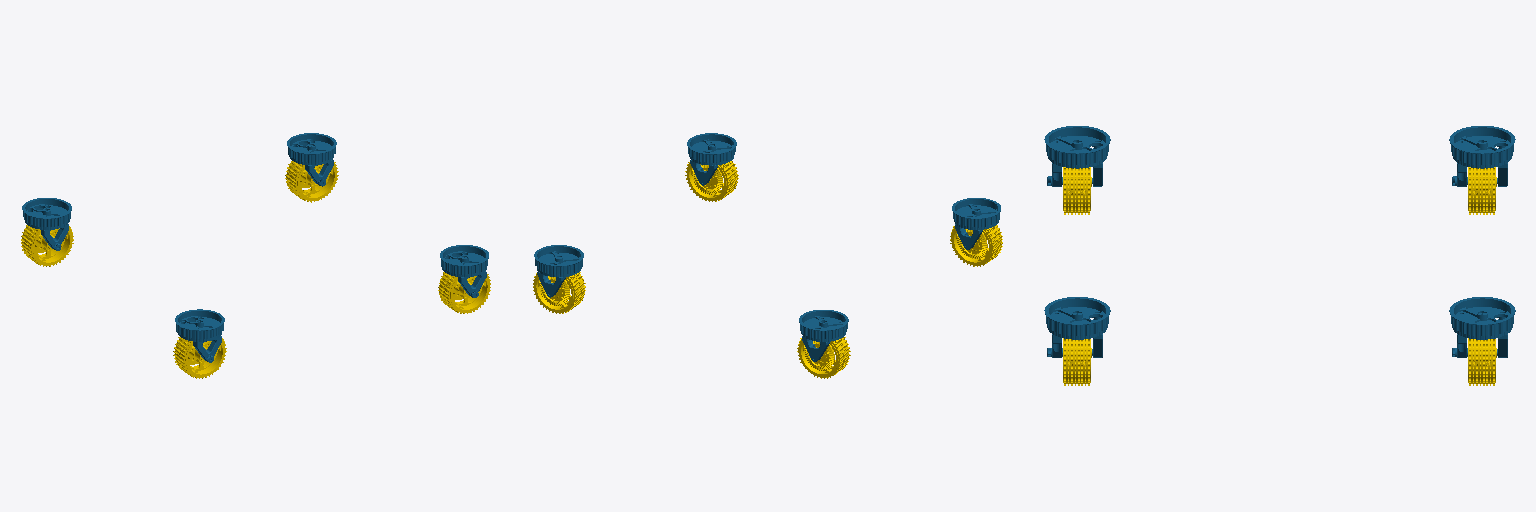
robot.urdf — edna:
<?xml version="1.0" ?>
<!-- =================================================================================== -->
<!-- |    This document was autogenerated by xacro from /workspaces/edna2023/src/edna_description/urdf/robots/edna.urdf.xacro | -->
<!-- |    EDITING THIS FILE BY HAND IS NOT RECOMMENDED                                 | -->
<!-- =================================================================================== -->
<robot name="edna">
  <!-- Specify some standard inertial calculations https://en.wikipedia.org/wiki/List_of_moments_of_inertia -->
  <!-- These make use of xacro's mathematical functionality -->
  <material name="black">
    <color rgba="0.0 0.0 0.0 1.0"/>
  </material>
  <material name="blue">
    <color rgba="0.13725490196078433 0.43137254901960786 0.5882352941176471 1.0"/>
  </material>
  <material name="green">
    <color rgba="0.0 0.8 0.0 1.0"/>
  </material>
  <material name="grey">
    <color rgba="0.2 0.2 0.2 1.0"/>
  </material>
  <material name="yellow">
    <color rgba="1.0 0.8431372549019608 0.0 1"/>
  </material>
  <material name="orange">
    <color rgba="0.9529411764705882 0.5294117647058824 0.1843137254901961 1"/>
  </material>
  <material name="brown">
    <color rgba="0.8705882352941177 0.8117647058823529 0.7647058823529411 1.0"/>
  </material>
  <material name="red">
    <color rgba="0.8 0.0 0.0 1.0"/>
  </material>
  <material name="white">
    <color rgba="1.0 1.0 1.0 1.0"/>
  </material>
  <material name="silver">
    <color rgba="0.700 0.700 0.700 1.000"/>
  </material>
  <material name="zed2i_mat">
    <color rgba="0.25 0.25 0.25 0.99"/>
  </material>
  <!-- Made up values, replace with real ones later. -->
  <!-- X IS FORWARD -->
  <!-- Y IS LEFT -->
  <!-- Z IS UP -->
  <!-- Chassis -->
  <link name="base_link"/>
  <link name="default_swerve_chassis_link">
    <inertial>
      <origin rpy="0 0 0" xyz="0 0 0.02794"/>
      <mass value="19.0508795"/>
      <inertia ixx="0.8663421337789339" ixy="0.0" ixz="0.0" iyy="0.8663421337789339" iyz="0.0" izz="1.7227696361205036"/>
    </inertial>
    <visual>
      <origin rpy="1.5707963267948966 0 0" xyz="0.061605 0.53866 -0.34976"/>
      <geometry>
        <mesh filename="package://edna_description/meshes/SwerveChassis.stl" scale="0.001 0.001 0.001"/>
      </geometry>
      <material name="red"/>
    </visual>
    <collision>
      <origin rpy="0 0 0" xyz="0 0 0.02794"/>
      <geometry>
        <box size="0.7366 0.7366 0.05588 "/>
      </geometry>
    </collision>
  </link>
  <joint name="default_swerve_chassis_joint" type="fixed">
    <parent link="base_link"/>
    <child link="default_swerve_chassis_link"/>
    <origin rpy="0 0 0" xyz="0 0 0"/>
  </joint>
  <link name="default_front_left_axle_link">
    <visual>
      <origin rpy="3.141592653589793 0 1.5707963267948966" xyz="0 0 0"/>
      <geometry>
        <mesh filename="package://edna_description/meshes/SwerveAxle.stl" scale="0.001 0.001 0.001"/>
      </geometry>
      <material name="blue"/>
    </visual>
    <inertial>
      <origin rpy="0 0 0" xyz="0 0 -0.015"/>
      <mass value="0.23739"/>
      <inertia ixx="0.000166173" ixy="0.0" ixz="0.0" iyy="0.000166173" iyz="0.0" izz="0.00029673750000000005"/>
    </inertial>
  </link>
  <joint name="default_front_left_axle_joint" type="continuous">
    <parent link="default_swerve_chassis_link"/>
    <child link="default_front_left_axle_link"/>
    <origin rpy="0 0 0" xyz="0.301625 0.301625 0.06905599999999999"/>
    <axis xyz="0 0 -1"/>
    <dynamics friction="0.1"/>
  </joint>
  <link name="default_front_left_wheel_link">
    <visual>
      <origin rpy="0 0.7853981633974483 1.5707963267948966" xyz="0 -0.022 0"/>
      <geometry>
        <mesh filename="package://edna_description/meshes/SwerveWheel.stl" scale="0.001 0.001 0.001"/>
      </geometry>
      <material name="yellow"/>
    </visual>
    <collision>
      <origin rpy="1.5707963267948966 0 0" xyz="0 0 0"/>
      <geometry>
        <cylinder length="0.0381" radius="0.0508"/>
      </geometry>
    </collision>
    <inertial>
      <origin rpy="1.5707963267948966 0 0" xyz="0 0 0"/>
      <mass value="0.23133211"/>
      <inertia ixx="0.00017722989110402498" ixy="0.0" ixz="0.0" iyy="0.00017722989110402498" iyz="0.0" izz="0.0002984924481752"/>
    </inertial>
  </link>
  <joint name="default_front_left_wheel_joint" type="continuous">
    <parent link="default_front_left_axle_link"/>
    <child link="default_front_left_wheel_link"/>
    <origin rpy="0 0 0" xyz="0 0 -0.063"/>
    <axis xyz="0 1 0"/>
    <dynamics friction="0.1"/>
  </joint>
  <link name="default_front_right_axle_link">
    <visual>
      <origin rpy="3.141592653589793 0 1.5707963267948966" xyz="0 0 0"/>
      <geometry>
        <mesh filename="package://edna_description/meshes/SwerveAxle.stl" scale="0.001 0.001 0.001"/>
      </geometry>
      <material name="blue"/>
    </visual>
    <inertial>
      <origin rpy="0 0 0" xyz="0 0 -0.015"/>
      <mass value="0.23739"/>
      <inertia ixx="0.000166173" ixy="0.0" ixz="0.0" iyy="0.000166173" iyz="0.0" izz="0.00029673750000000005"/>
    </inertial>
  </link>
  <joint name="default_front_right_axle_joint" type="continuous">
    <parent link="default_swerve_chassis_link"/>
    <child link="default_front_right_axle_link"/>
    <origin rpy="0 0 0" xyz="0.301625 -0.301625 0.06905599999999999"/>
    <axis xyz="0 0 -1"/>
    <dynamics friction="0.1"/>
  </joint>
  <link name="default_front_right_wheel_link">
    <visual>
      <origin rpy="0 0.7853981633974483 1.5707963267948966" xyz="0 -0.022 0"/>
      <geometry>
        <mesh filename="package://edna_description/meshes/SwerveWheel.stl" scale="0.001 0.001 0.001"/>
      </geometry>
      <material name="yellow"/>
    </visual>
    <collision>
      <origin rpy="1.5707963267948966 0 0" xyz="0 0 0"/>
      <geometry>
        <cylinder length="0.0381" radius="0.0508"/>
      </geometry>
    </collision>
    <inertial>
      <origin rpy="1.5707963267948966 0 0" xyz="0 0 0"/>
      <mass value="0.23133211"/>
      <inertia ixx="0.00017722989110402498" ixy="0.0" ixz="0.0" iyy="0.00017722989110402498" iyz="0.0" izz="0.0002984924481752"/>
    </inertial>
  </link>
  <joint name="default_front_right_wheel_joint" type="continuous">
    <parent link="default_front_right_axle_link"/>
    <child link="default_front_right_wheel_link"/>
    <origin rpy="0 0 0" xyz="0 0 -0.063"/>
    <axis xyz="0 1 0"/>
    <dynamics friction="0.1"/>
  </joint>
  <link name="default_rear_left_axle_link">
    <visual>
      <origin rpy="3.141592653589793 0 1.5707963267948966" xyz="0 0 0"/>
      <geometry>
        <mesh filename="package://edna_description/meshes/SwerveAxle.stl" scale="0.001 0.001 0.001"/>
      </geometry>
      <material name="blue"/>
    </visual>
    <inertial>
      <origin rpy="0 0 0" xyz="0 0 -0.015"/>
      <mass value="0.23739"/>
      <inertia ixx="0.000166173" ixy="0.0" ixz="0.0" iyy="0.000166173" iyz="0.0" izz="0.00029673750000000005"/>
    </inertial>
  </link>
  <joint name="default_rear_left_axle_joint" type="continuous">
    <parent link="default_swerve_chassis_link"/>
    <child link="default_rear_left_axle_link"/>
    <origin rpy="0 0 0" xyz="-0.301625 0.301625 0.06905599999999999 "/>
    <axis xyz="0 0 -1"/>
    <dynamics friction="0.1"/>
  </joint>
  <link name="default_rear_left_wheel_link">
    <visual>
      <origin rpy="0 0.7853981633974483 1.5707963267948966" xyz="0 -0.022 0"/>
      <geometry>
        <mesh filename="package://edna_description/meshes/SwerveWheel.stl" scale="0.001 0.001 0.001"/>
      </geometry>
      <material name="yellow"/>
    </visual>
    <collision>
      <origin rpy="1.5707963267948966 0 0" xyz="0 0 0"/>
      <geometry>
        <cylinder length="0.0381" radius="0.0508"/>
      </geometry>
    </collision>
    <inertial>
      <origin rpy="1.5707963267948966 0 0" xyz="0 0 0"/>
      <mass value="0.23133211"/>
      <inertia ixx="0.00017722989110402498" ixy="0.0" ixz="0.0" iyy="0.00017722989110402498" iyz="0.0" izz="0.0002984924481752"/>
    </inertial>
  </link>
  <joint name="default_rear_left_wheel_joint" type="continuous">
    <parent link="default_rear_left_axle_link"/>
    <child link="default_rear_left_wheel_link"/>
    <origin rpy="0 0 0" xyz="0 0 -0.063"/>
    <axis xyz="0 1 0"/>
    <dynamics friction="0.1"/>
  </joint>
  <link name="default_rear_right_axle_link">
    <visual>
      <origin rpy="3.141592653589793 0 1.5707963267948966" xyz="0 0 0"/>
      <geometry>
        <mesh filename="package://edna_description/meshes/SwerveAxle.stl" scale="0.001 0.001 0.001"/>
      </geometry>
      <material name="blue"/>
    </visual>
    <inertial>
      <origin rpy="0 0 0" xyz="0 0 -0.015"/>
      <mass value="0.23739"/>
      <inertia ixx="0.000166173" ixy="0.0" ixz="0.0" iyy="0.000166173" iyz="0.0" izz="0.00029673750000000005"/>
    </inertial>
  </link>
  <joint name="default_rear_right_axle_joint" type="continuous">
    <parent link="default_swerve_chassis_link"/>
    <child link="default_rear_right_axle_link"/>
    <origin rpy="0 0 0" xyz="-0.301625 -0.301625 0.06905599999999999"/>
    <axis xyz="0 0 -1"/>
    <dynamics friction="0.1"/>
  </joint>
  <link name="default_rear_right_wheel_link">
    <visual>
      <origin rpy="0 0.7853981633974483 1.5707963267948966" xyz="0 -0.022 0"/>
      <geometry>
        <mesh filename="package://edna_description/meshes/SwerveWheel.stl" scale="0.001 0.001 0.001"/>
      </geometry>
      <material name="yellow"/>
    </visual>
    <collision>
      <origin rpy="1.5707963267948966 0 0" xyz="0 0 0"/>
      <geometry>
        <cylinder length="0.0381" radius="0.0508"/>
      </geometry>
    </collision>
    <inertial>
      <origin rpy="1.5707963267948966 0 0" xyz="0 0 0"/>
      <mass value="0.23133211"/>
      <inertia ixx="0.00017722989110402498" ixy="0.0" ixz="0.0" iyy="0.00017722989110402498" iyz="0.0" izz="0.0002984924481752"/>
    </inertial>
  </link>
  <joint name="default_rear_right_wheel_joint" type="continuous">
    <parent link="default_rear_right_axle_link"/>
    <child link="default_rear_right_wheel_link"/>
    <origin rpy="0 0 0" xyz="0 0 -0.063"/>
    <axis xyz="0 1 0"/>
    <dynamics friction="0.1"/>
  </joint>
  <!-- Camera mounting point (the threaded screw hole in the bottom) -->
  <link name="default_zed_base_link"/>
  <joint name="default_zed_base_joint" type="fixed">
    <parent link="default_swerve_chassis_link"/>
    <child link="default_zed_base_link"/>
    <origin rpy="0 0 0" xyz="0 0 0.3"/>
  </joint>
  <!-- Camera Center -->
  <link name="default_zed_camera_center">
    <visual>
      <origin rpy="0 0 0" xyz="-0.01 0 0"/>
      <geometry>
        <mesh filename="package://edna_description/meshes/zed2i.stl"/>
      </geometry>
      <material name="zed2i_mat"/>
    </visual>
    <collision>
      <geometry>
        <mesh filename="package://edna_description/meshes/zed2i.stl"/>
      </geometry>
    </collision>
  </link>
  <joint name="default_zed_camera_center_joint" type="fixed">
    <parent link="default_zed_base_link"/>
    <child link="default_zed_camera_center"/>
    <origin rpy="0 0.0 0" xyz="0 0 0.015"/>
  </joint>
  <!-- Left Camera -->
  <link name="default_zed_left_camera_frame"/>
  <joint name="default_zed_left_camera_joint" type="fixed">
    <parent link="default_zed_camera_center"/>
    <child link="default_zed_left_camera_frame"/>
    <origin rpy="-1.5707963267948966 0 -1.5707963267948966" xyz="0 0.06 0"/>
  </joint>
  <link name="default_zed_left_camera_optical_frame"/>
  <joint name="default_zed_left_camera_optical_joint" type="fixed">
    <origin rpy="3.141592653589793 0 0" xyz="0 0 -0.01"/>
    <parent link="default_zed_left_camera_frame"/>
    <child link="default_zed_left_camera_optical_frame"/>
  </joint>
  <!-- Right Camera -->
  <link name="default_zed_right_camera_frame"/>
  <joint name="default_zed_right_camera_joint" type="fixed">
    <parent link="default_zed_camera_center"/>
    <child link="default_zed_right_camera_frame"/>
    <origin rpy="-1.5707963267948966 0 -1.5707963267948966" xyz="0 -0.06 0"/>
  </joint>
  <link name="default_zed_right_camera_optical_frame"/>
  <joint name="default_zed_right_camera_optical_joint" type="fixed">
    <origin rpy="3.141592653589793 0 0" xyz="0 0 -0.01"/>
    <parent link="default_zed_right_camera_frame"/>
    <child link="default_zed_right_camera_optical_frame"/>
  </joint>
  <ros2_control name="swerve_drive" type="system">
    <hardware>
      <plugin>swerve_hardware/IsaacDriveHardware</plugin>
      <param name="example_param_hw_start_duration_sec">3.0</param>
      <param name="example_param_hw_stop_duration_sec">3.0</param>
    </hardware>
    <joint name="front_right_wheel_joint">
      <command_interface name="velocity">
        <param name="min">-1</param>
        <param name="max">1</param>
      </command_interface>
      <state_interface name="position"/>
      <state_interface name="velocity"/>
    </joint>
    <joint name="rear_left_wheel_joint">
      <command_interface name="velocity">
        <param name="min">-1</param>
        <param name="max">1</param>
      </command_interface>
      <state_interface name="position"/>
      <state_interface name="velocity"/>
    </joint>
    <joint name="front_left_wheel_joint">
      <command_interface name="velocity">
        <param name="min">-1</param>
        <param name="max">1</param>
      </command_interface>
      <state_interface name="position"/>
      <state_interface name="velocity"/>
    </joint>
    <joint name="rear_right_wheel_joint">
      <command_interface name="velocity">
        <param name="min">-1</param>
        <param name="max">1</param>
      </command_interface>
      <state_interface name="position"/>
      <state_interface name="velocity"/>
    </joint>
    <joint name="front_right_axle_joint">
      <command_interface name="position">
        <param name="min">-1</param>
        <param name="max">1</param>
      </command_interface>
      <state_interface name="position"/>
      <state_interface name="velocity"/>
    </joint>
    <joint name="rear_left_axle_joint">
      <command_interface name="position">
        <param name="min">-1</param>
        <param name="max">1</param>
      </command_interface>
      <state_interface name="position"/>
      <state_interface name="velocity"/>
    </joint>
    <joint name="front_left_axle_joint">
      <command_interface name="position">
        <param name="min">-1</param>
        <param name="max">1</param>
      </command_interface>
      <state_interface name="position"/>
      <state_interface name="velocity"/>
    </joint>
    <joint name="rear_right_axle_joint">
      <command_interface name="position">
        <param name="min">-1</param>
        <param name="max">1</param>
      </command_interface>
      <state_interface name="position"/>
      <state_interface name="velocity"/>
    </joint>
  </ros2_control>
</robot>

--- Render facts (derived) ---
The picture shows the robot from 3 angles, left to right: view 1: azimuth 30°, elevation 25°; view 2: azimuth 150°, elevation 25°; view 3: azimuth 270°, elevation 25°; orthographic projection.
Model edna with 16 links and 15 joints (8 continuous, 7 fixed), rooted at base_link, posed all joints at 0.
Links seen in each view (by area): view 1: default_front_left_axle_link, default_rear_right_axle_link, default_front_right_axle_link, default_rear_left_axle_link, default_rear_left_wheel_link, default_rear_right_wheel_link, default_front_right_wheel_link, default_front_left_wheel_link; view 2: default_front_left_axle_link, default_rear_left_axle_link, default_front_right_axle_link, default_rear_right_axle_link, default_front_left_wheel_link, default_rear_right_wheel_link, default_front_right_wheel_link, default_rear_left_wheel_link; view 3: default_front_left_axle_link, default_front_right_axle_link, default_rear_left_axle_link, default_rear_right_axle_link, default_rear_left_wheel_link, default_rear_right_wheel_link, default_front_left_wheel_link, default_front_right_wheel_link.
Link boxes in pixels (left/top/right/bottom): default_front_left_axle_link: left=287, top=133, right=336, bottom=186; default_rear_right_axle_link: left=175, top=309, right=224, bottom=362; default_front_right_axle_link: left=440, top=245, right=488, bottom=297; default_rear_left_axle_link: left=22, top=198, right=71, bottom=250; default_rear_left_wheel_link: left=21, top=225, right=73, bottom=266; default_rear_right_wheel_link: left=173, top=337, right=226, bottom=378; default_front_right_wheel_link: left=438, top=272, right=490, bottom=313; default_front_left_wheel_link: left=285, top=161, right=338, bottom=202; default_front_left_axle_link: left=534, top=245, right=583, bottom=297; default_rear_left_axle_link: left=799, top=310, right=848, bottom=361; default_front_right_axle_link: left=687, top=133, right=736, bottom=185; default_rear_right_axle_link: left=952, top=198, right=1000, bottom=249; default_front_left_wheel_link: left=533, top=272, right=585, bottom=313; default_rear_right_wheel_link: left=950, top=225, right=1002, bottom=266; default_front_right_wheel_link: left=685, top=161, right=738, bottom=201; default_rear_left_wheel_link: left=797, top=337, right=850, bottom=378; default_front_left_axle_link: left=1449, top=297, right=1515, bottom=357; default_front_right_axle_link: left=1044, top=297, right=1110, bottom=357; default_rear_left_axle_link: left=1449, top=126, right=1515, bottom=186; default_rear_right_axle_link: left=1044, top=126, right=1110, bottom=186; default_rear_left_wheel_link: left=1468, top=167, right=1496, bottom=214; default_rear_right_wheel_link: left=1063, top=167, right=1091, bottom=214; default_front_left_wheel_link: left=1468, top=338, right=1496, bottom=385; default_front_right_wheel_link: left=1063, top=338, right=1091, bottom=385.
Bounding box of the posed robot: 0.7034 × 0.7017 × 0.1192 m (x, y, z).
8 mesh visuals loaded from 4 distinct referenced files (2 binary STL); not drawn: 2 (reference not matched to a file when rendering).
